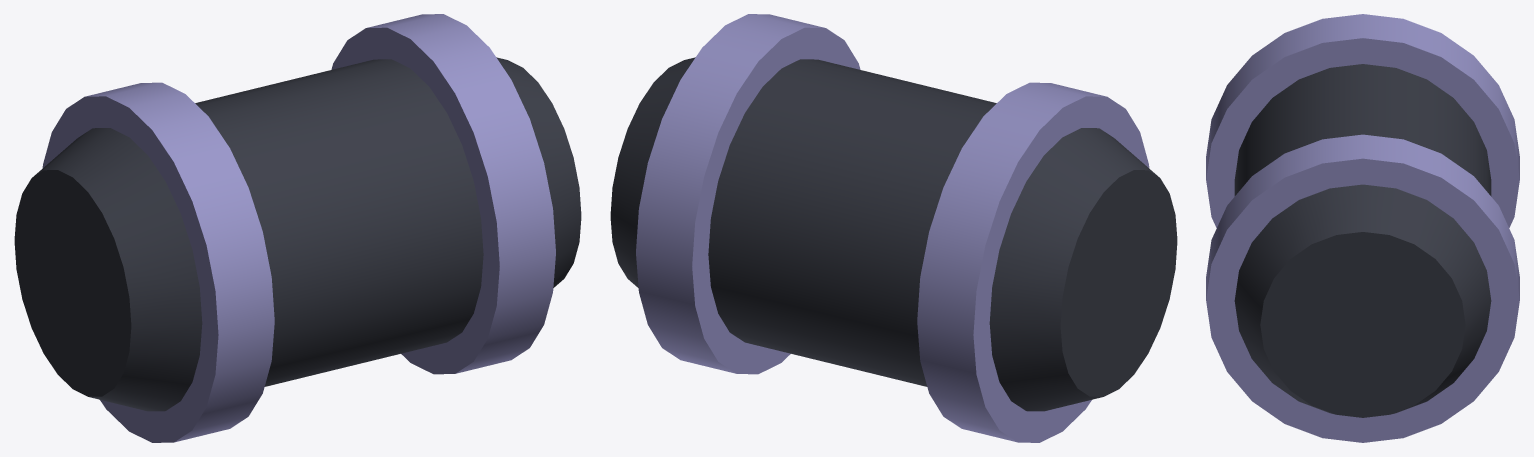
The model's file is Tank_Basic.fbx.
3 views of the same model, side by side, from view 1: azimuth 30°, elevation 25°; view 2: azimuth 150°, elevation 25°; view 3: azimuth 270°, elevation 25° (orthographic). The views are drawn at different scales.
Parts seen in each view (by area): view 1: detail_tank; view 2: detail_tank; view 3: detail_tank.
Boxes of the visible parts, x1,y1,x2,y2 form: detail_tank: (14, 14, 581, 442); detail_tank: (610, 14, 1177, 442); detail_tank: (1206, 14, 1519, 442).
Bounding box in the file's own units: 8 × 5.5 × 5.5.
